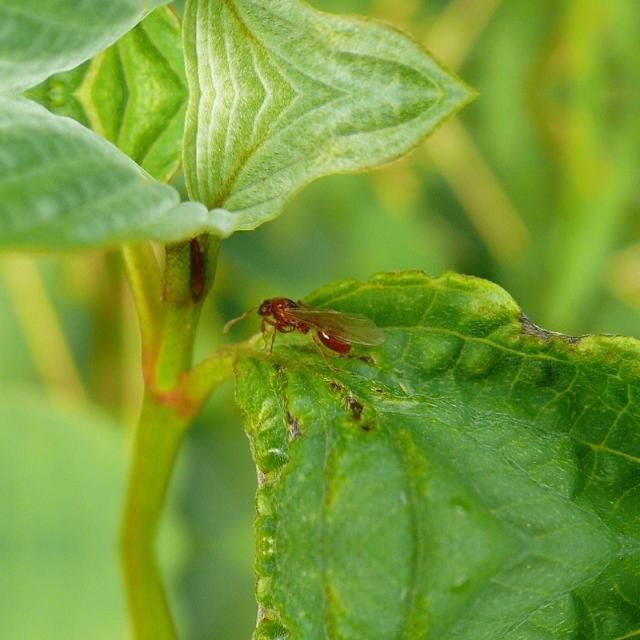Myrmica: (247, 287, 363, 371)
